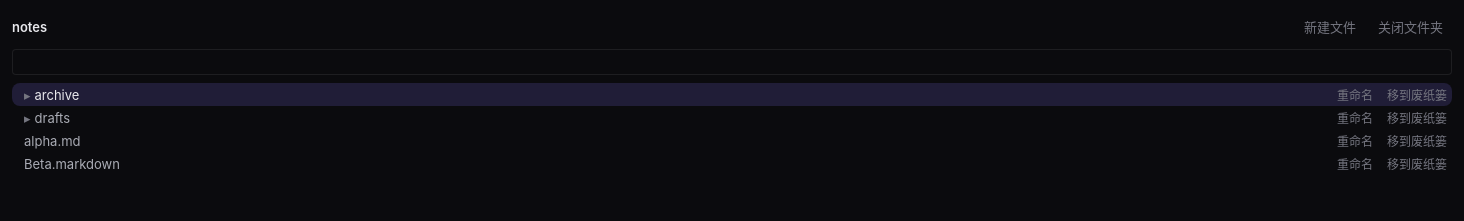
it: FileSidebar › creates a markdown file through the inline name input
Expected: the list item "alpha.md" is shown, [12,129,1452,152]
Click the button "新建文件" at (1330,26), box [1295,12,1365,41]
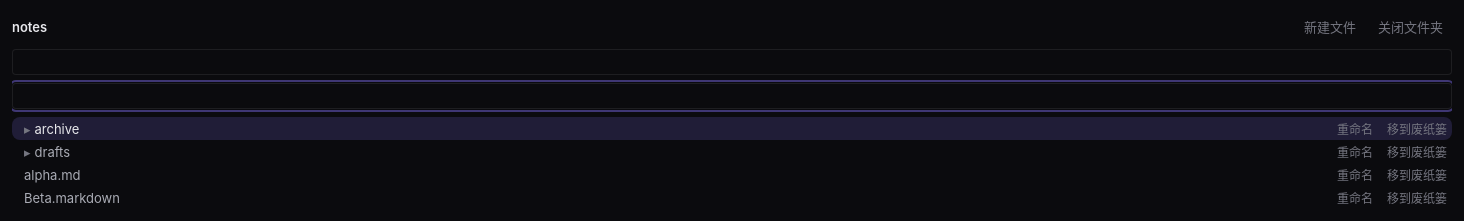
Type "new-note.md" into the field named "文件名" at (732,96), box [12,83,1452,109]
Then press Enter
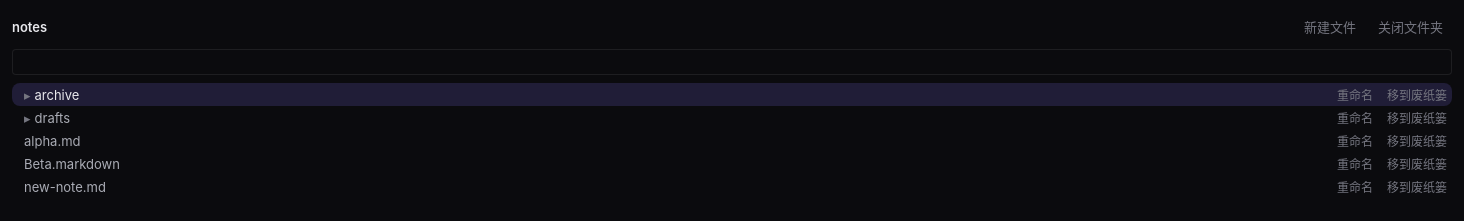
Expected: the list item "new-note.md" is shown, [12,175,1452,198]
